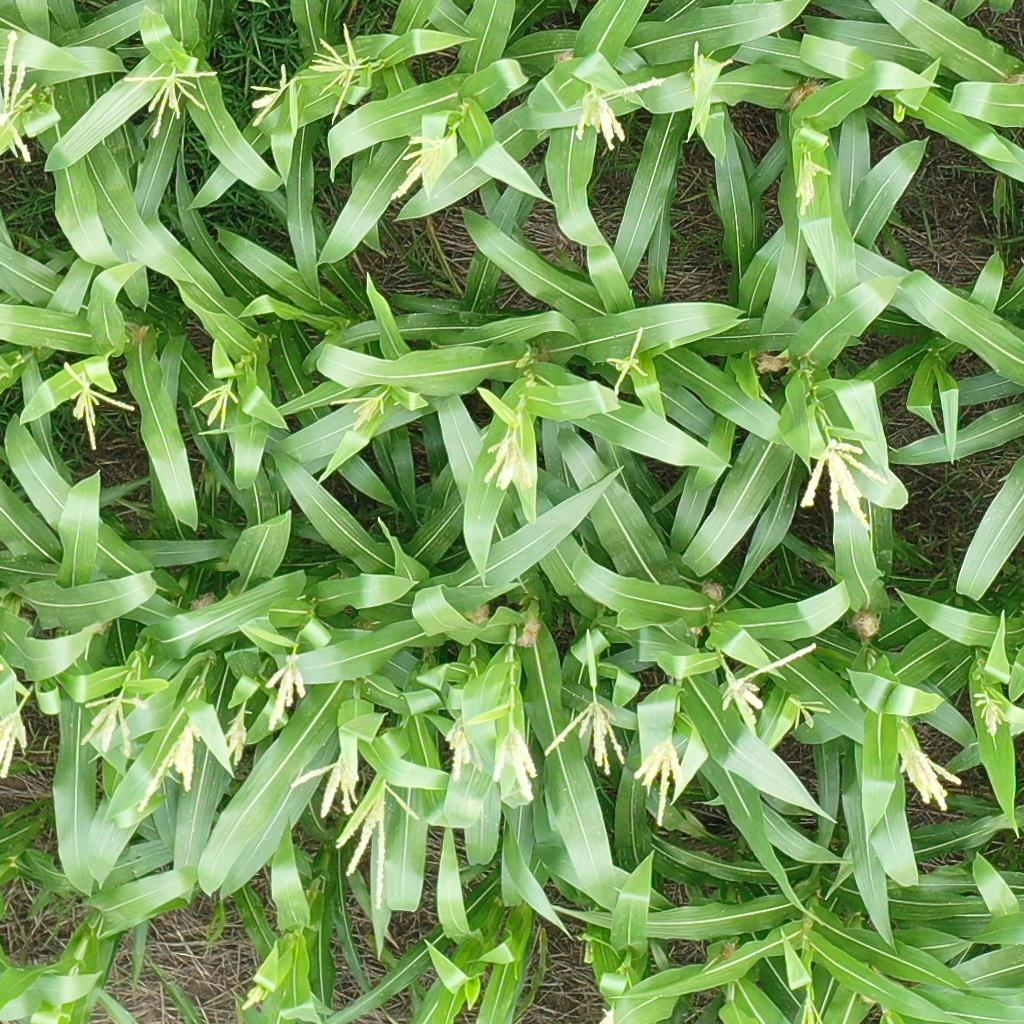Tassel: (336, 781, 420, 922), (800, 440, 885, 535), (306, 24, 377, 127), (121, 64, 218, 139), (715, 645, 819, 713), (61, 360, 137, 451), (542, 701, 630, 777), (576, 77, 665, 149), (135, 724, 202, 812), (1, 30, 40, 165), (631, 735, 684, 830), (290, 751, 361, 819), (386, 131, 452, 204), (897, 749, 965, 815), (79, 699, 148, 764), (485, 723, 544, 799), (604, 327, 652, 400), (485, 432, 539, 495), (260, 661, 308, 729), (247, 65, 295, 129), (326, 385, 388, 433), (688, 41, 735, 102), (190, 381, 242, 435), (792, 159, 836, 218), (968, 686, 1011, 740), (1, 709, 30, 779), (444, 722, 476, 785), (224, 707, 253, 770), (793, 697, 838, 732), (801, 991, 824, 1024), (244, 983, 264, 1009)
